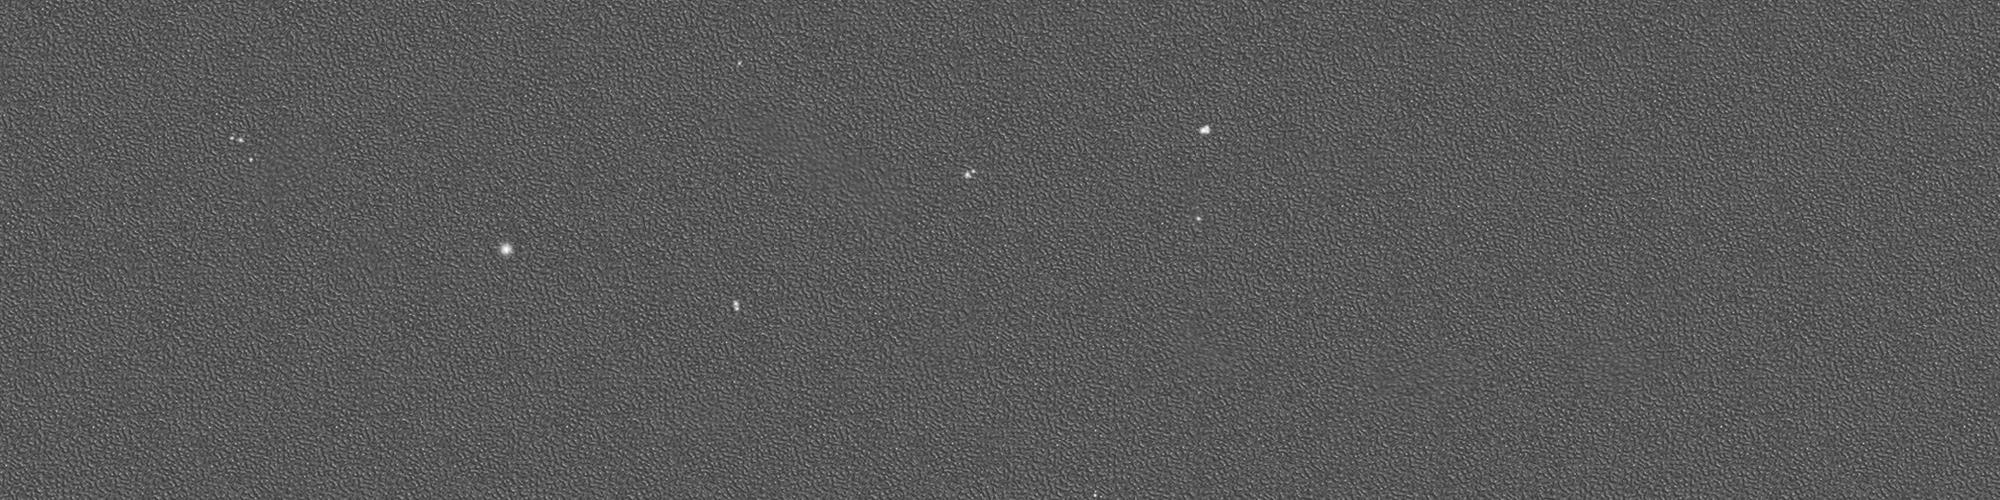Particles: (1195, 119, 1217, 138), (964, 159, 981, 184), (495, 240, 515, 259), (727, 298, 745, 318), (1191, 210, 1207, 224), (230, 134, 247, 145), (733, 60, 749, 69), (244, 156, 256, 165)
